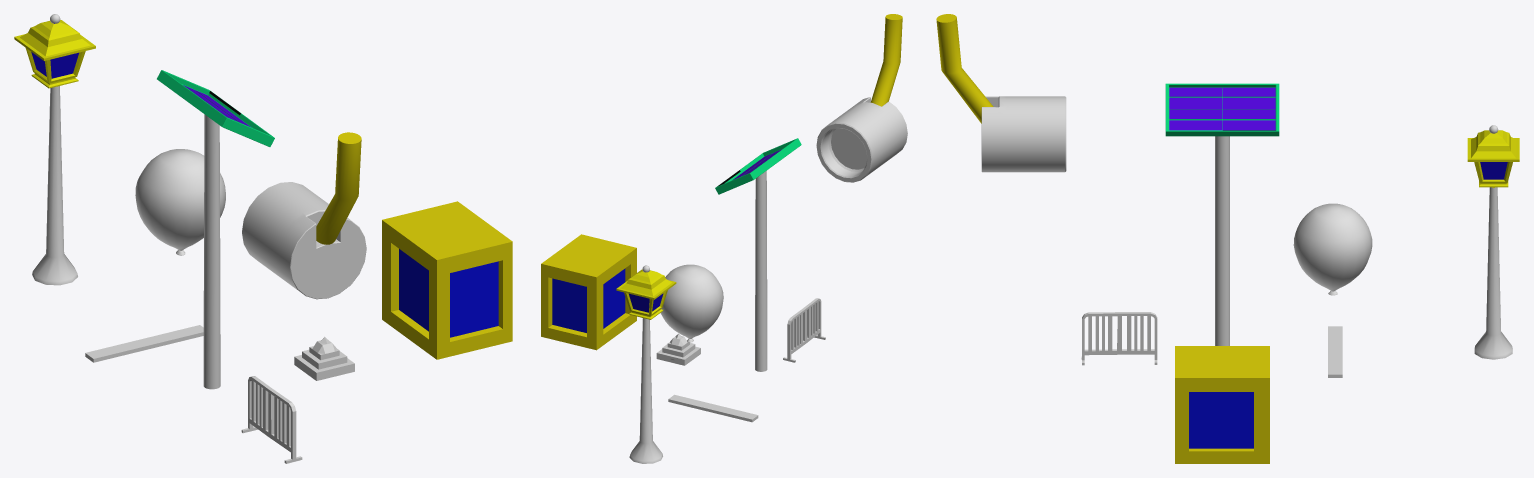
Rendered from game_asset_the_real_plz_work_.fbx.
3 renders of one model, left to right at view 1: azimuth 30°, elevation 25°; view 2: azimuth 150°, elevation 25°; view 3: azimuth 270°, elevation 25°, orthographic. The views are drawn at different scales.
Visible parts, largest first — view 1: display_case, display_light, balloon, pCylinder2, lamp_post_base, lamp_post_light, arm_of_display_light, fence, pCube1, art_piece_1, plank; view 2: display_case, display_light, balloon, pCylinder2, lamp_post_base, lamp_post_light, arm_of_display_light, fence, pCube1, art_piece_1, plank; view 3: display_case, display_light, pCube1, balloon, pCylinder2, lamp_post_base, lamp_post_light, fence, arm_of_display_light, plank.
Part boxes in pixels (<box>): display_case: <box>382,201,512,359</box>; display_light: <box>242,182,366,299</box>; balloon: <box>135,149,225,255</box>; pCylinder2: <box>203,114,220,389</box>; lamp_post_base: <box>32,86,77,285</box>; lamp_post_light: <box>14,20,95,88</box>; arm_of_display_light: <box>316,132,361,244</box>; fence: <box>241,376,302,463</box>; pCube1: <box>157,70,274,146</box>; art_piece_1: <box>294,336,354,380</box>; plank: <box>85,325,203,362</box>; display_case: <box>541,234,636,350</box>; display_light: <box>816,97,907,182</box>; balloon: <box>660,264,723,342</box>; pCylinder2: <box>755,171,767,371</box>; lamp_post_base: <box>629,318,662,463</box>; lamp_post_light: <box>616,269,676,319</box>; arm_of_display_light: <box>870,14,902,106</box>; fence: <box>783,298,825,362</box>; pCube1: <box>715,138,801,194</box>; art_piece_1: <box>656,333,700,365</box>; plank: <box>668,394,758,422</box>; display_case: <box>1175,346,1269,463</box>; display_light: <box>981,96,1066,172</box>; pCube1: <box>1165,83,1279,136</box>; balloon: <box>1293,203,1372,295</box>; pCylinder2: <box>1215,136,1229,345</box>; lamp_post_base: <box>1474,187,1512,359</box>; lamp_post_light: <box>1467,130,1519,187</box>; fence: <box>1081,312,1157,365</box>; arm_of_display_light: <box>936,14,993,123</box>; plank: <box>1328,326,1342,377</box>.
Bounding box in the file's own units: 8.71 × 9.64 × 15.22.
